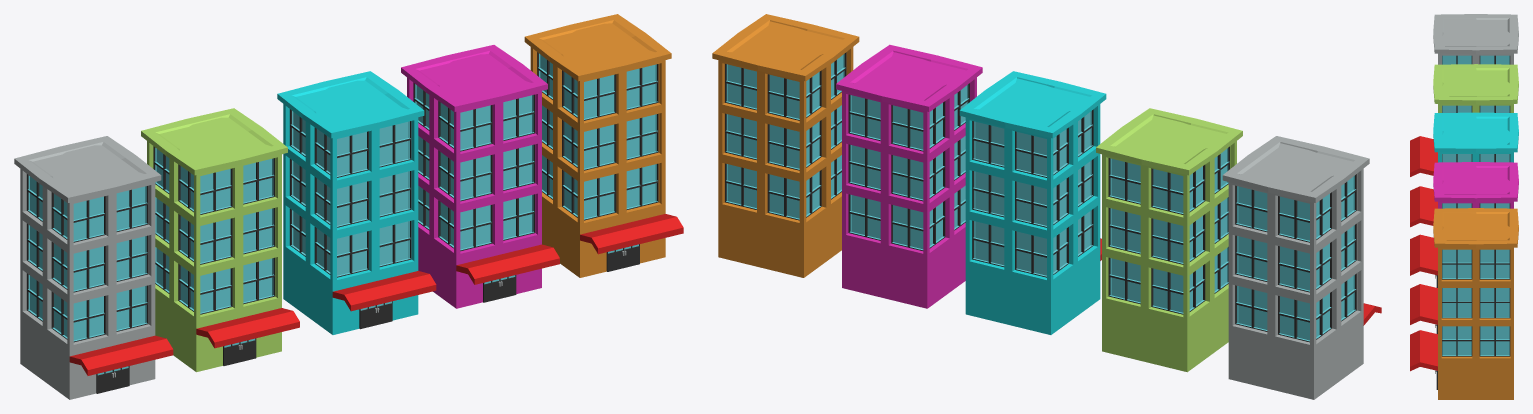
The model's file is Building blend.fbx.
3 renders of one model, left to right at view 1: azimuth 30°, elevation 25°; view 2: azimuth 150°, elevation 25°; view 3: azimuth 270°, elevation 25°, orthographic. The views are drawn at different scales.
Visible parts, largest first — view 1: Cube.004, Cube, Cube.002, Cube.008, Cube.006, Plane.001, Plane.003, Plane, Plane.002, Plane.004; view 2: Cube.004, Cube, Cube.002, Cube.008, Cube.006; view 3: Cube.008, Cube, Cube.004, Cube.002, Cube.006.
Boxes of the visible parts, x1,y1,x2,y2 form: Cube.004: (14,136,173,399); Cube: (277,71,436,334); Cube.002: (141,108,299,372); Cube.008: (524,14,683,277); Cube.006: (401,45,559,308); Plane.001: (223,338,256,365); Plane.003: (483,275,516,302); Plane: (359,301,392,329); Plane.002: (96,366,129,393); Plane.004: (606,244,639,271); Cube.004: (1222,136,1381,399); Cube: (959,71,1106,334); Cube.002: (1096,108,1242,372); Cube.008: (712,14,859,277); Cube.006: (836,44,982,308); Cube.008: (1410,208,1518,399); Cube: (1410,112,1518,275); Cube.004: (1410,14,1518,176); Cube.002: (1410,64,1518,227); Cube.006: (1410,162,1518,324).
Size of the model in its own units: 10716 by 3518 by 2161.
